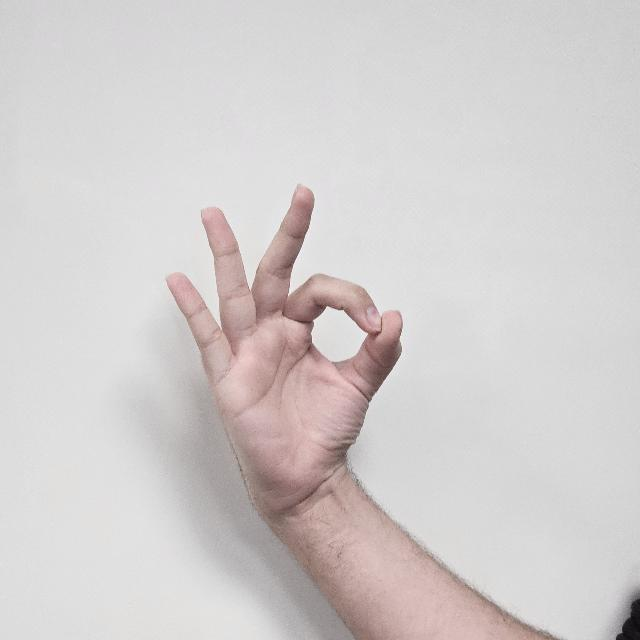Bolinha: (156, 186, 424, 504)
